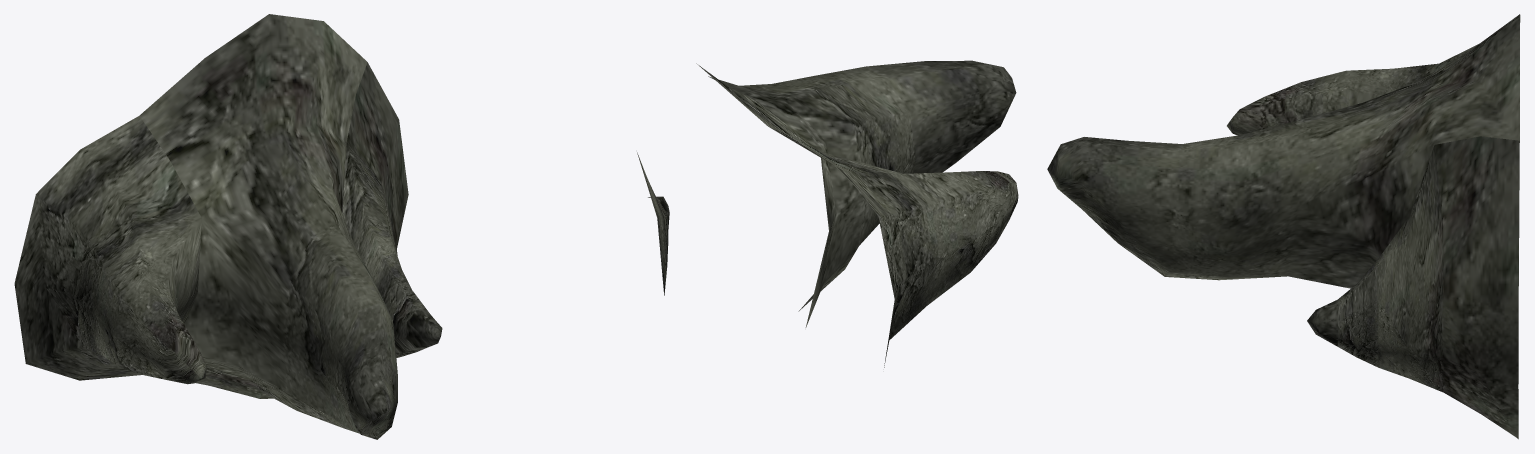
The picture shows the model from 3 angles, left to right: view 1: azimuth 30°, elevation 25°; view 2: azimuth 150°, elevation 25°; view 3: azimuth 270°, elevation 25°; orthographic projection. The views are drawn at different scales.
Parts seen in each view (by area): view 1: model_Object50; view 2: model_Object50; view 3: model_Object50.
Part boxes in pixels (x1,y1,x2,y2): model_Object50: (14,14,442,439); model_Object50: (637,60,1018,367); model_Object50: (1047,14,1520,439).
Bounding box in the file's own units: 0.6759 × 0.6457 × 0.6841.
Materials: 1 (1 with a texture image).
